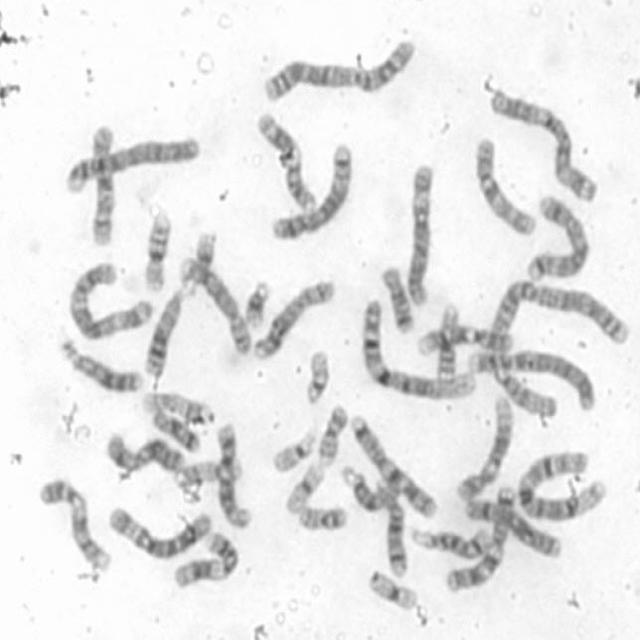A1: (357, 296, 480, 399), (512, 445, 609, 524)
A2: (480, 275, 631, 356), (258, 32, 418, 103)
A3: (484, 83, 600, 206), (65, 258, 156, 342)
B4: (463, 341, 600, 415), (60, 132, 202, 196)
B5: (266, 137, 356, 244), (523, 190, 591, 284)
C10: (471, 131, 539, 239), (88, 121, 116, 245)
C11: (252, 108, 320, 215), (170, 526, 239, 589)
C12: (453, 389, 514, 503), (212, 419, 253, 531)
C6: (105, 503, 214, 562), (401, 162, 436, 307)
C7: (345, 409, 440, 520), (441, 481, 517, 595)
C8: (176, 251, 252, 356), (250, 274, 336, 362)
C9: (35, 472, 114, 573), (412, 321, 516, 358)
D13: (56, 334, 145, 394), (141, 282, 189, 381)
D14: (372, 478, 411, 578), (405, 522, 491, 560)
D15: (488, 363, 560, 420), (338, 461, 403, 513)
E16: (140, 209, 173, 294), (432, 301, 462, 384)
E17: (139, 388, 209, 426), (172, 453, 245, 487)
E18: (378, 261, 417, 334), (148, 406, 201, 454)
F19: (281, 458, 326, 515), (364, 565, 418, 612)
F20: (314, 400, 349, 468), (294, 500, 349, 532)
G21: (240, 274, 272, 331), (190, 227, 220, 276)
G22: (269, 426, 317, 473), (301, 343, 332, 406)
X: (462, 490, 565, 560), (100, 426, 189, 476)
